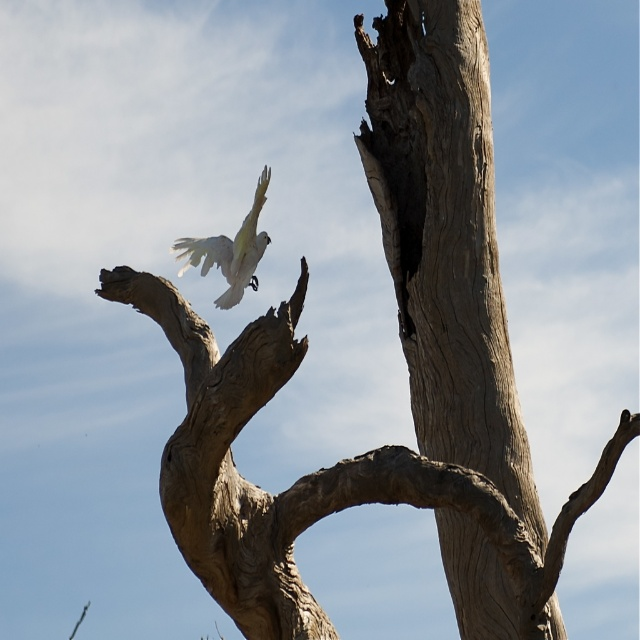Parrot: (168, 165, 271, 312)
